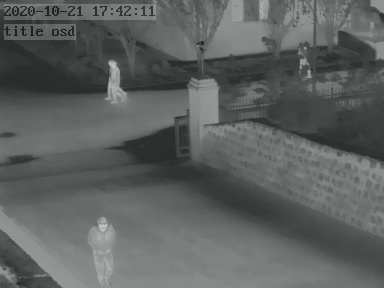person: (89, 214, 115, 288), (106, 60, 124, 103)
